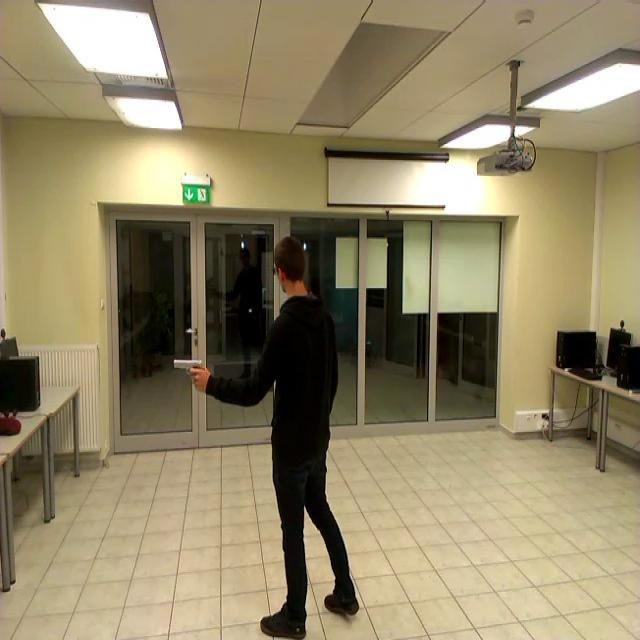weapon: (170, 356, 208, 392)
